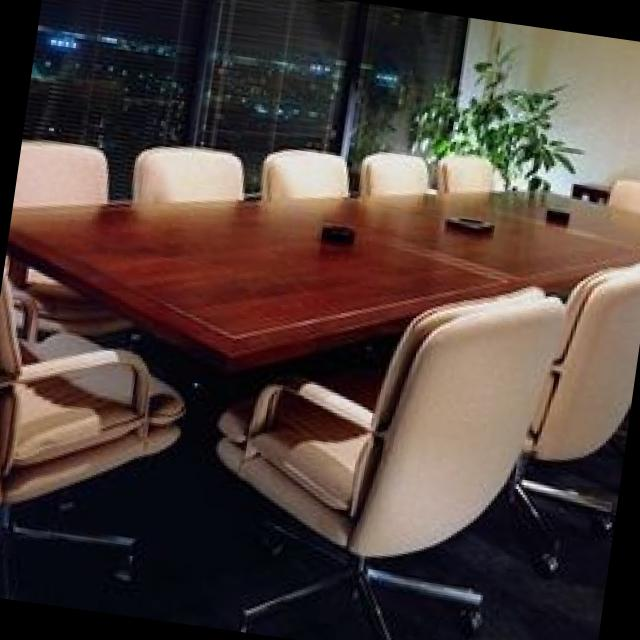2001: (23, 0, 466, 153)
ashtray: (441, 210, 491, 233), (319, 221, 356, 242), (542, 204, 565, 220)
chair: (13, 139, 106, 204), (136, 149, 242, 199), (259, 145, 346, 195), (358, 145, 424, 192), (433, 152, 490, 187), (605, 176, 640, 215)
chair -occluded-: (212, 289, 547, 638), (0, 265, 175, 542), (507, 260, 640, 569)
conference table: (8, 184, 640, 347)
plant -x: (423, 34, 556, 176)
small table: (570, 176, 606, 200)
